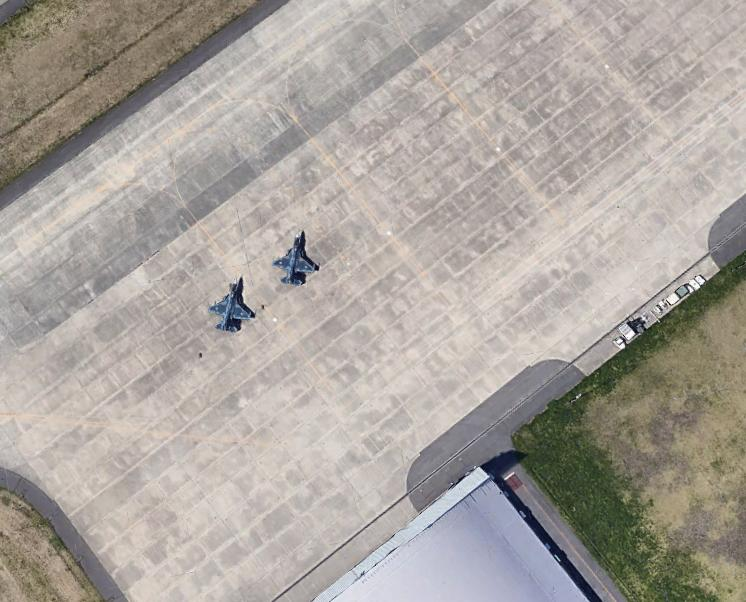A5: (203, 268, 255, 335), (269, 224, 321, 291)
